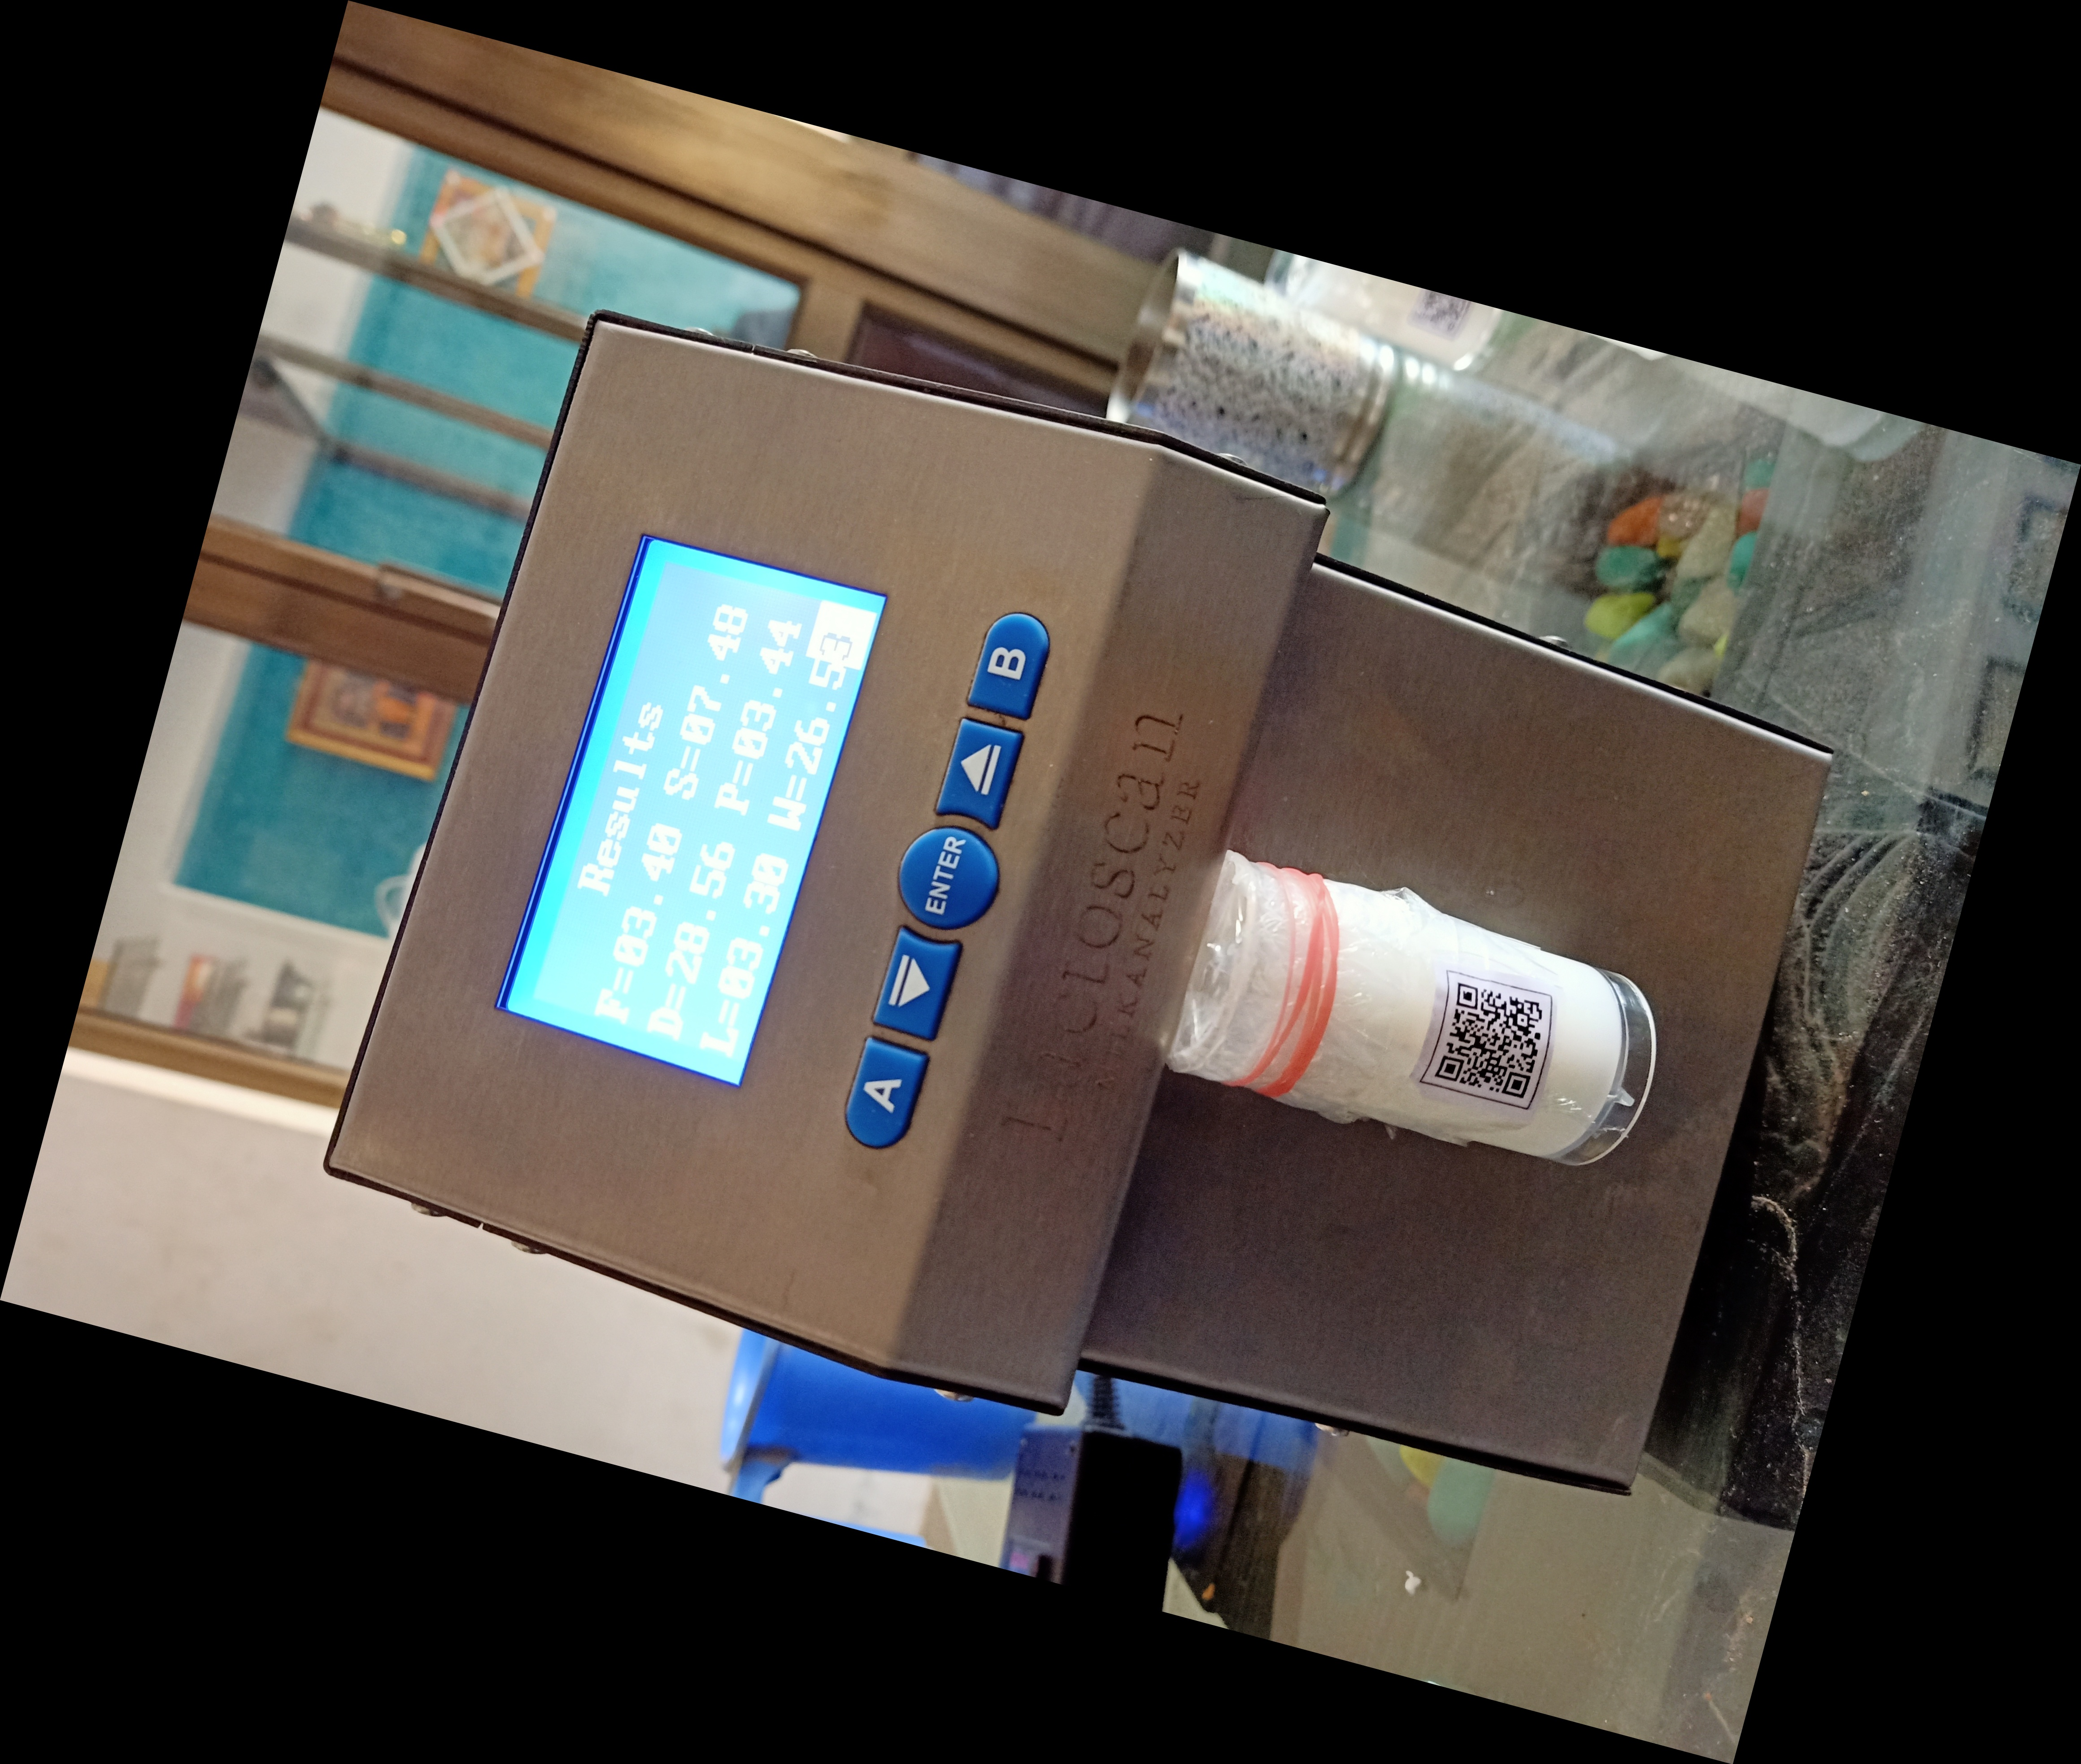lcd: (476, 539, 901, 1123)
qr: (1409, 966, 1568, 1129)
